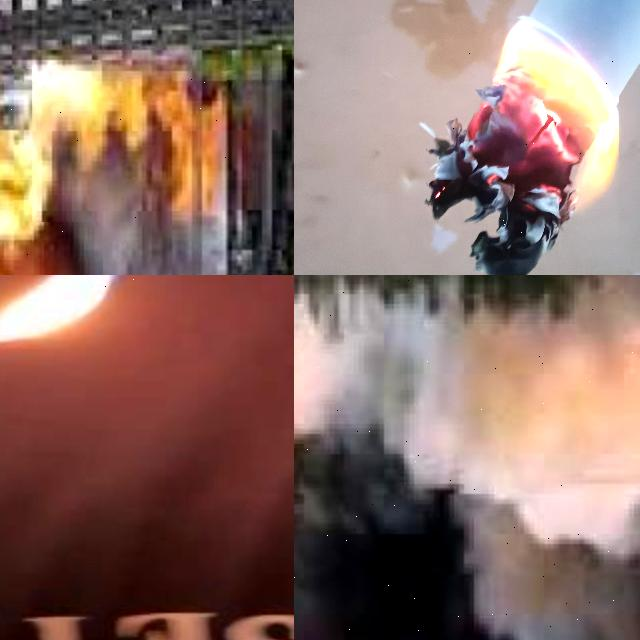fire: (428, 19, 618, 275), (32, 67, 227, 221), (0, 275, 115, 342)
smoke: (294, 275, 640, 640)
